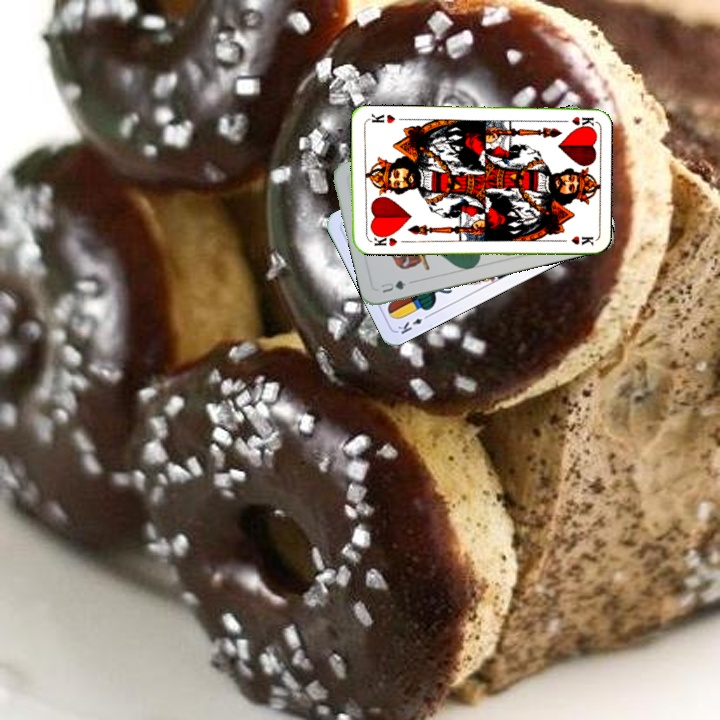EK: (393, 310, 433, 337)
GU: (376, 276, 409, 296)
HK: (555, 112, 595, 130), (370, 230, 400, 249)
